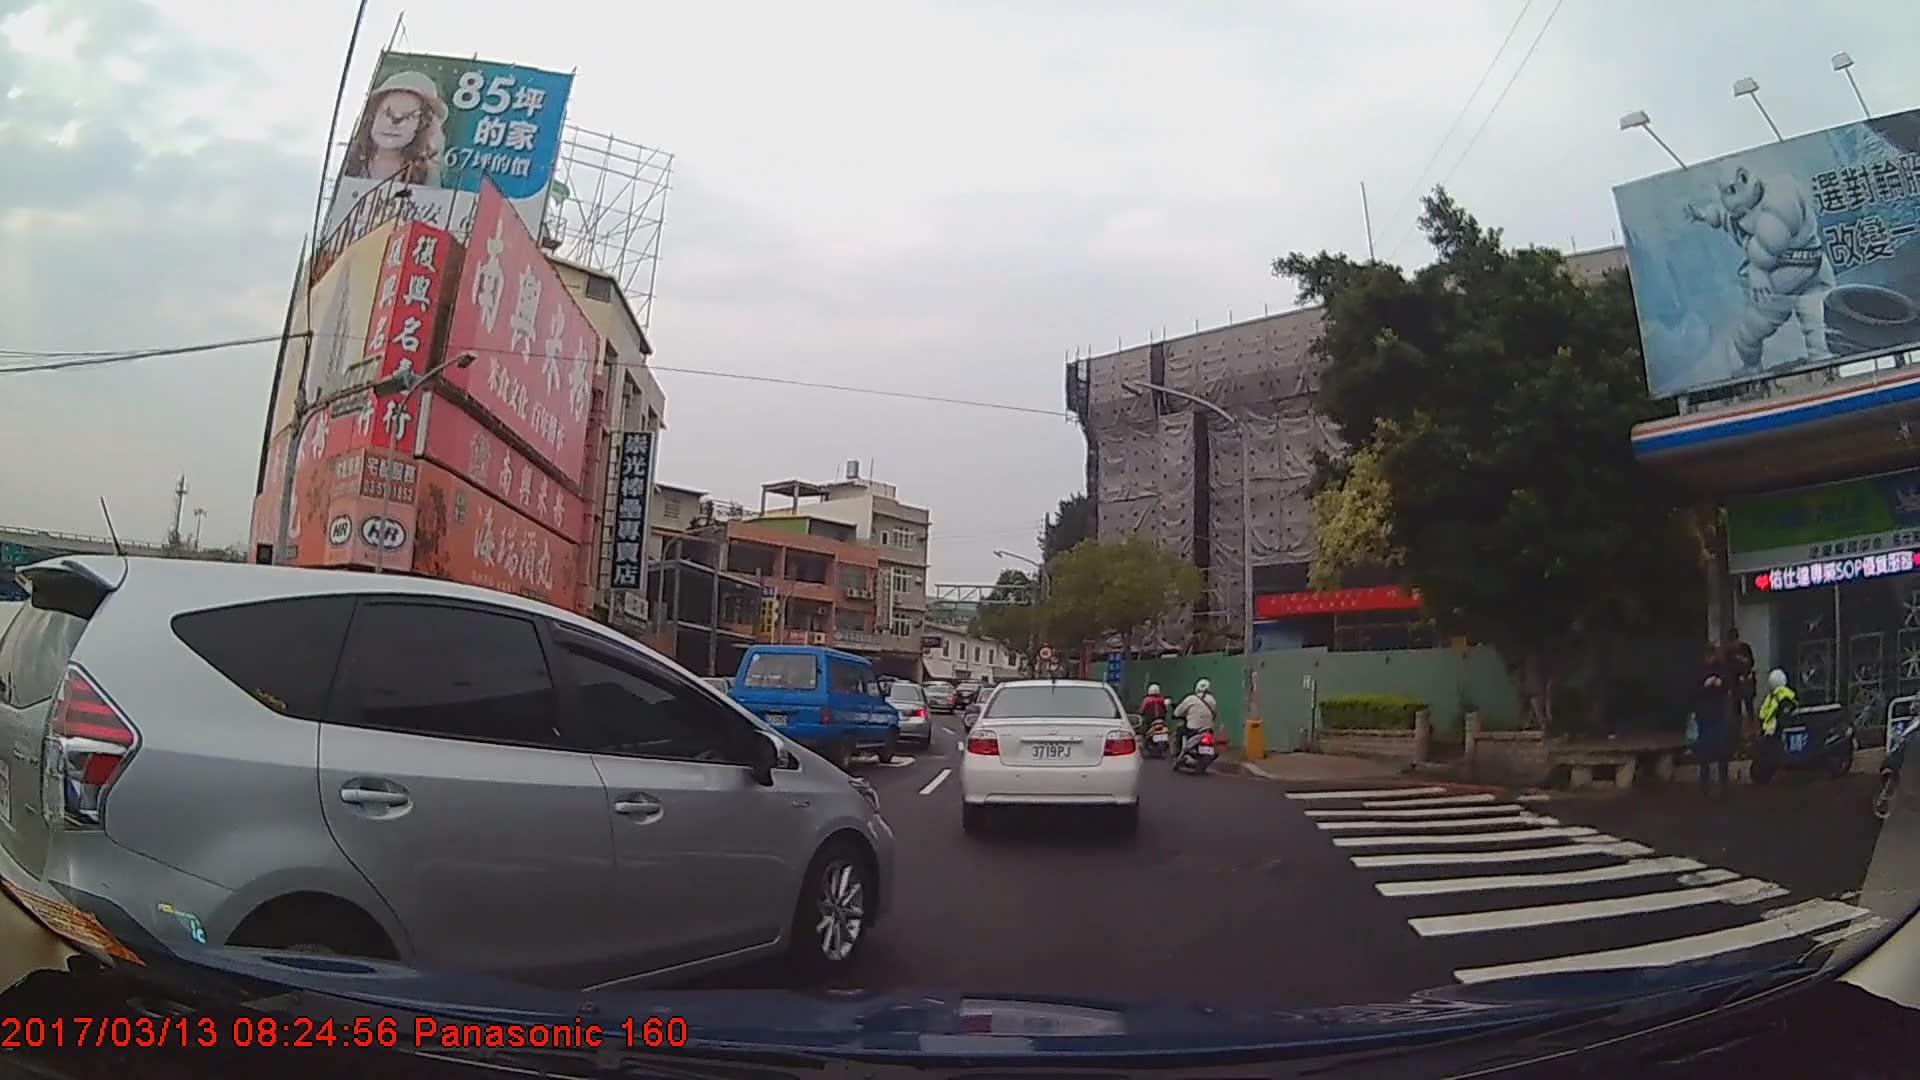pedestrian: (1690, 641, 1736, 792), (1714, 621, 1762, 752)
rider: (1178, 675, 1227, 772), (1140, 681, 1174, 758)
vehicle: (0, 555, 896, 1032), (957, 677, 1144, 836), (732, 642, 900, 770), (857, 680, 932, 750)
